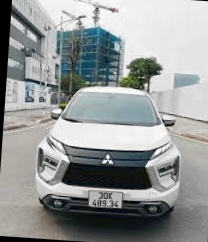Bien-so: (90, 196, 124, 216)
